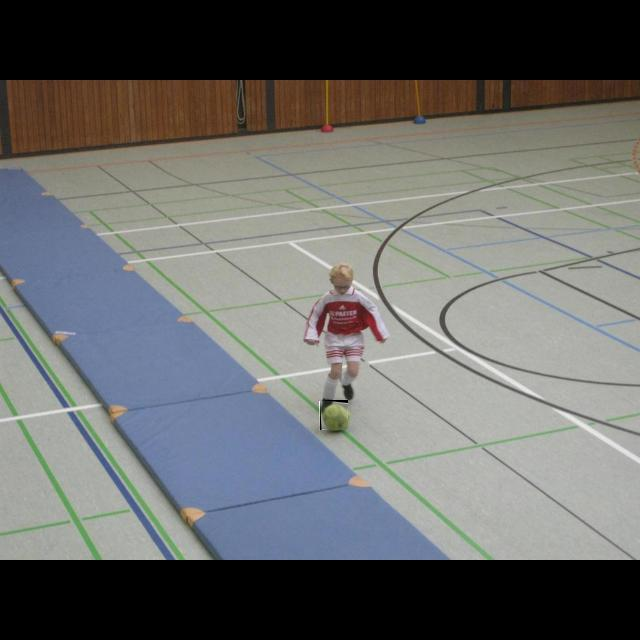Football: (320, 400, 348, 430)
